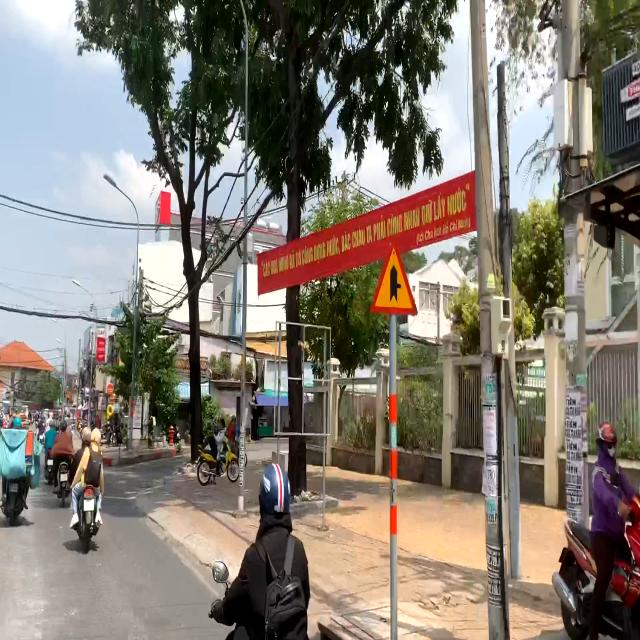W.207b: (366, 241, 421, 322)
